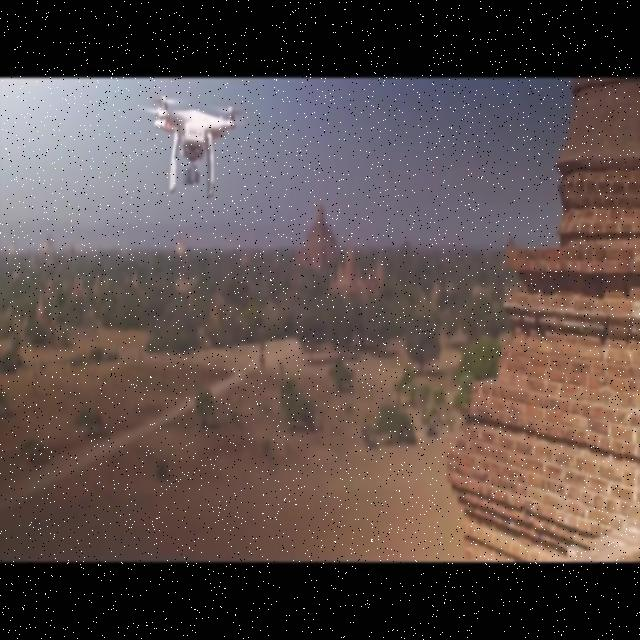UAV: (151, 91, 238, 201)
